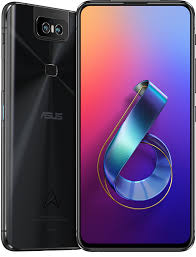asus: (72, 1, 196, 254), (2, 1, 80, 252)
